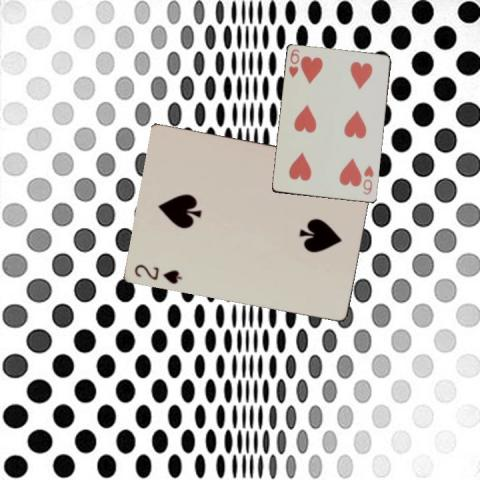2s: (132, 262, 184, 286)
6h: (360, 163, 375, 196), (286, 46, 301, 79)
